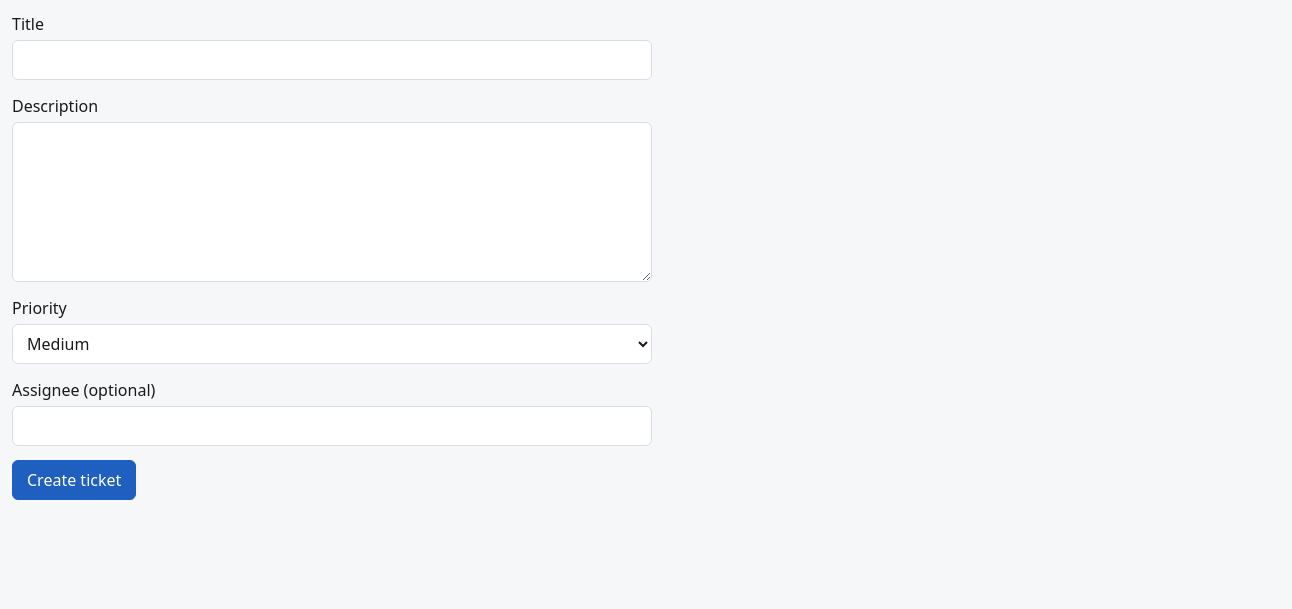
CreateTicketForm (REQ-1, TS-FE-02) › shows a retryable message with the reference for server errors (TS-FE-12)
Type "t" into the field labelled "Title".
click(332, 60); type("t")  # box [12,40,652,80]
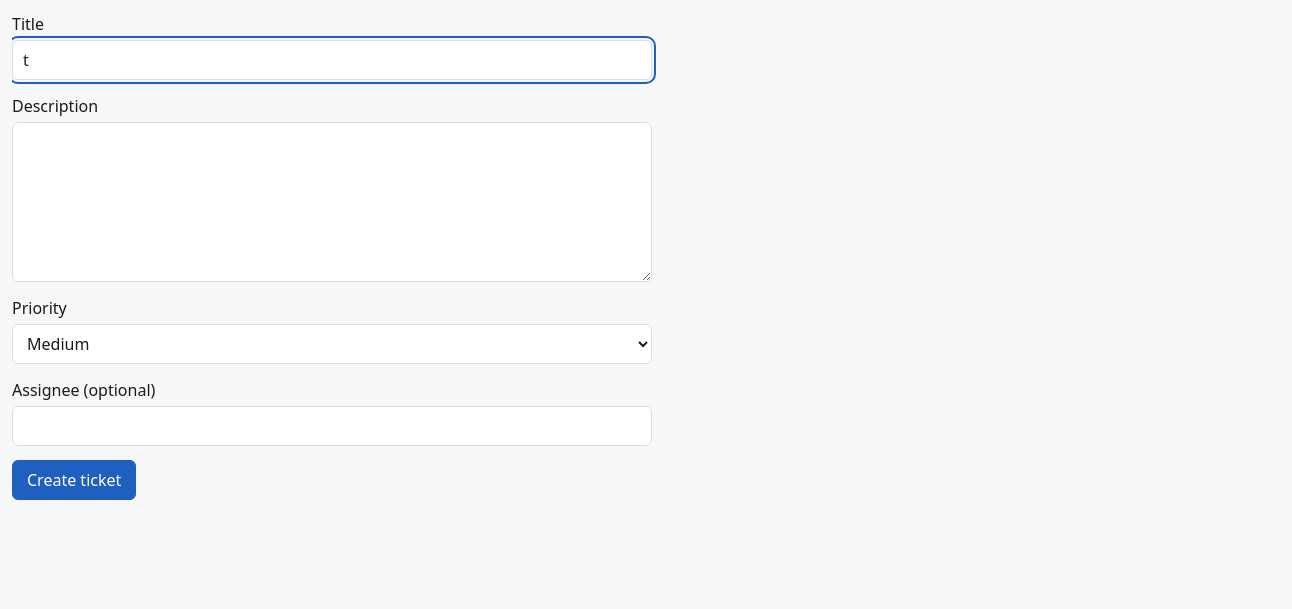
Type "d" into the text box labelled "Description".
click(332, 202); type("d")  # box [12,122,652,282]
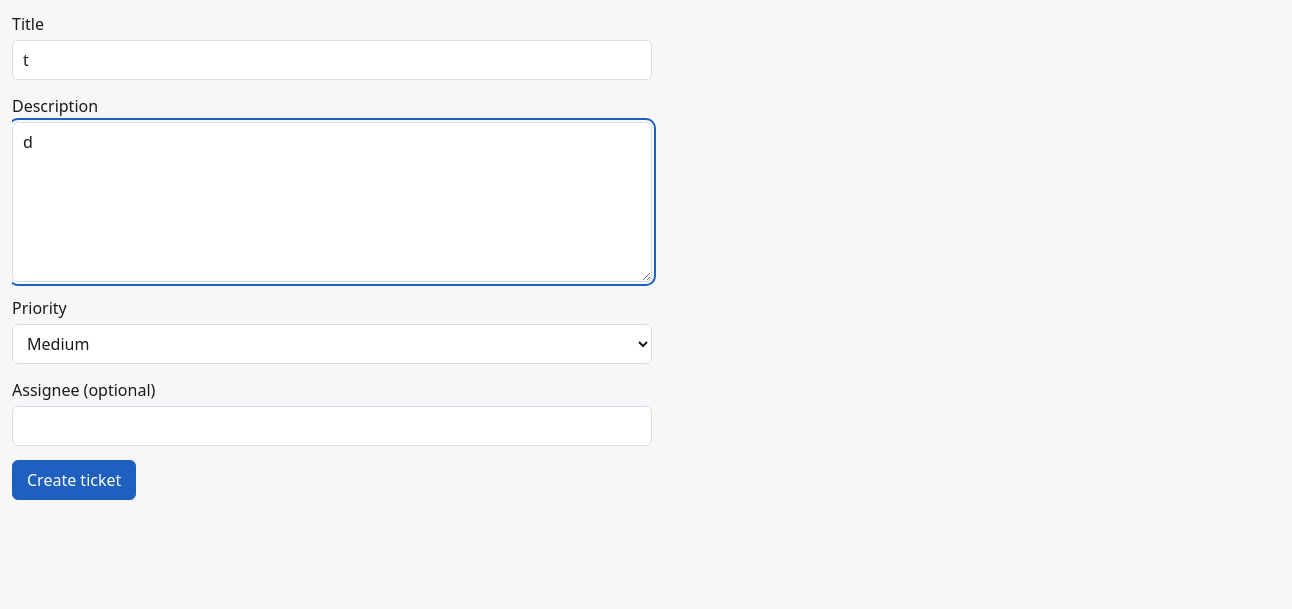
Click the button "Create ticket".
click(74, 480)  # box [12,460,136,500]
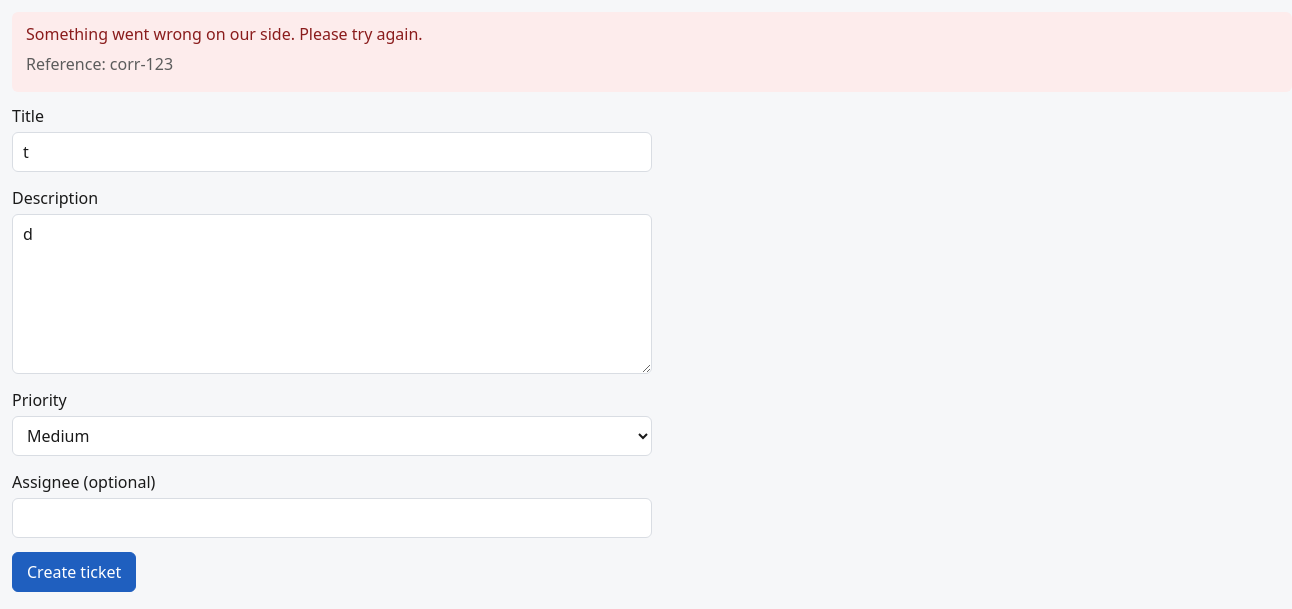
Expected: the message does not show "NullPointerException", [12,12,1291,92]
Result: the message shows "Something went wrong on our side." at [26,23,423,45]
Result: the message shows "Reference: corr-123" at [12,12,1291,92]
